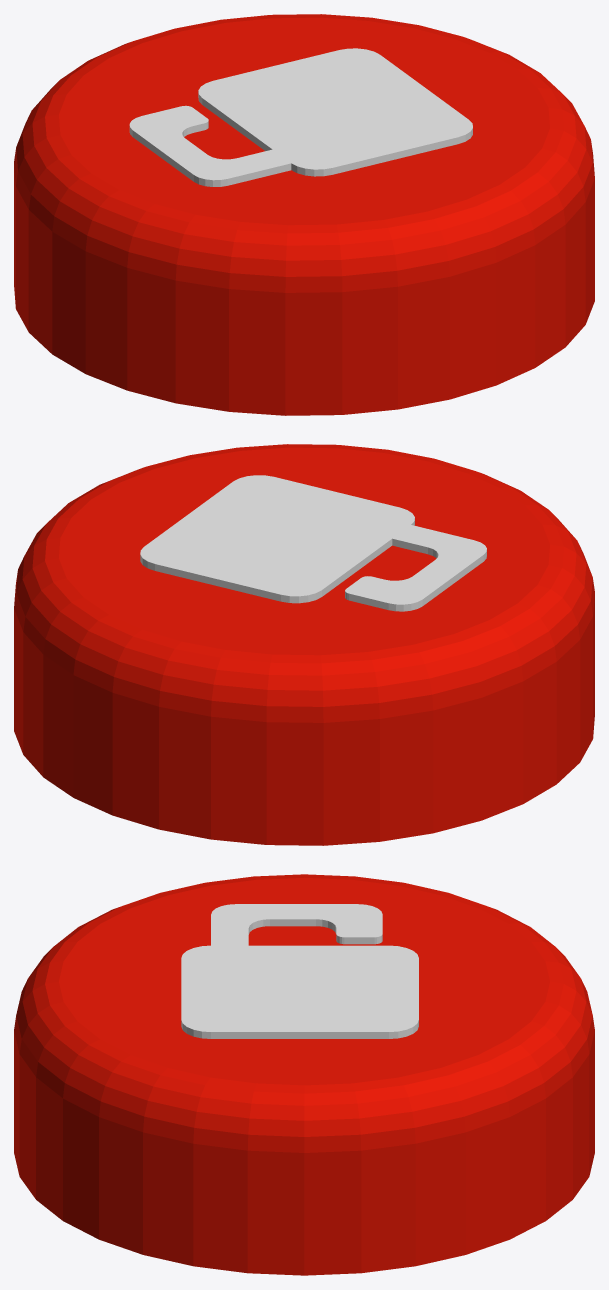
Rendered from unlock.fbx.
3 views of the same model, one above another, from view 1: azimuth 30°, elevation 25°; view 2: azimuth 150°, elevation 25°; view 3: azimuth 270°, elevation 25° (orthographic).
Parts seen in each view (by area): view 1: Cube.005; view 2: Cube.005; view 3: Cube.005.
Boxes of the visible parts, x1,y1,x2,y2 form: Cube.005: [14, 14, 594, 415]; Cube.005: [14, 444, 594, 845]; Cube.005: [14, 874, 594, 1275].
Size of the model in its own units: 50.02 by 16.93 by 50.02.
